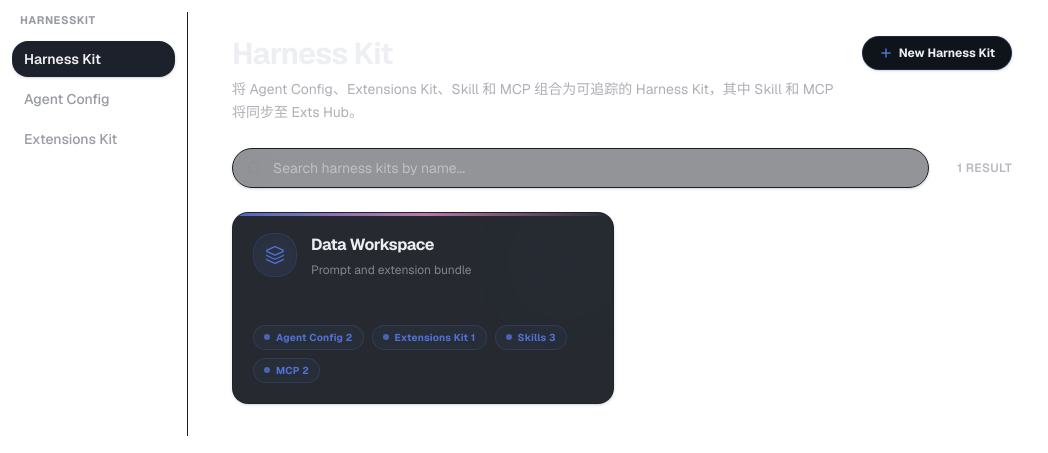
HarnessKitPage › opens a Kit details drawer with Skills and MCP assets
Step 1. Click the button "Extensions Kit" → (94,138), box [12, 120, 175, 156]
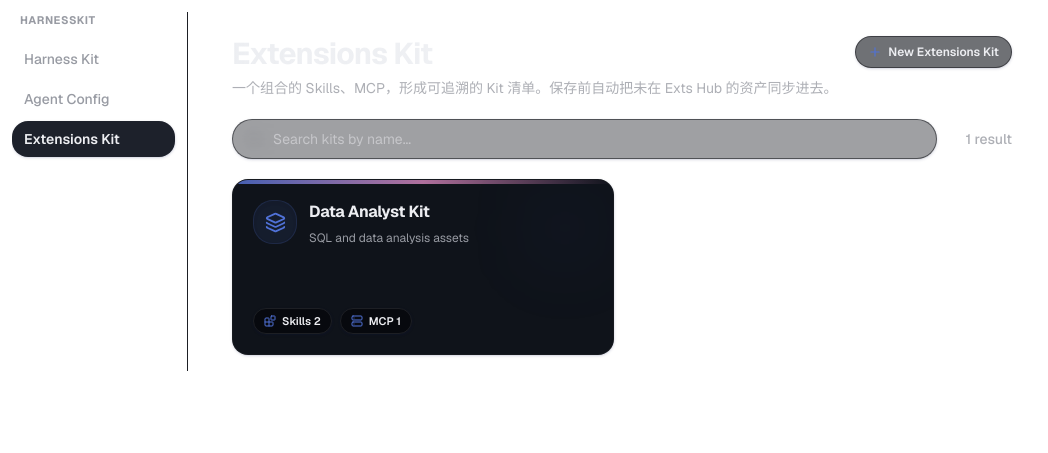
Step 2. Click the heading "Data Analyst Kit" → (369,212), box [309, 201, 430, 222]
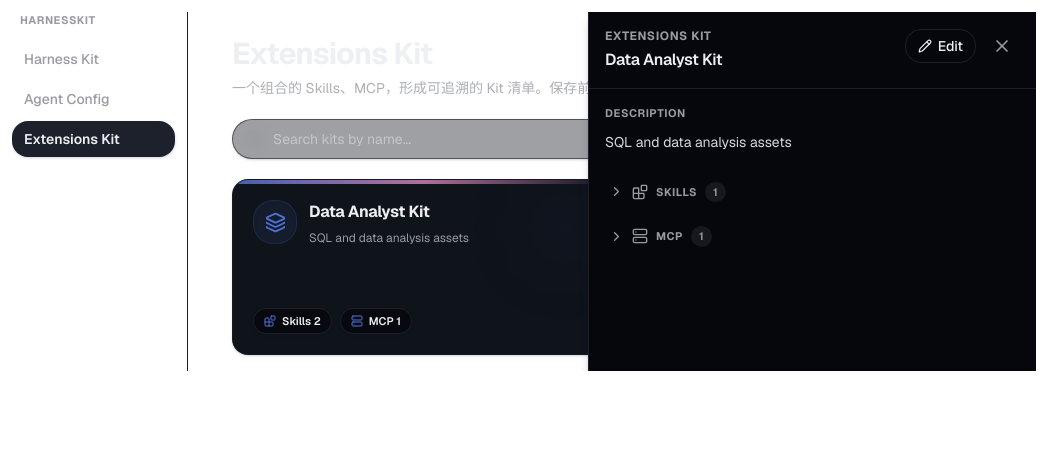
Expected: the text "frontend-design" is not shown
Expected: the text "Description" is shown, [605, 106, 686, 120]
Step 3. Click the button "Skills 1" → (677,192), box [605, 178, 1020, 206]
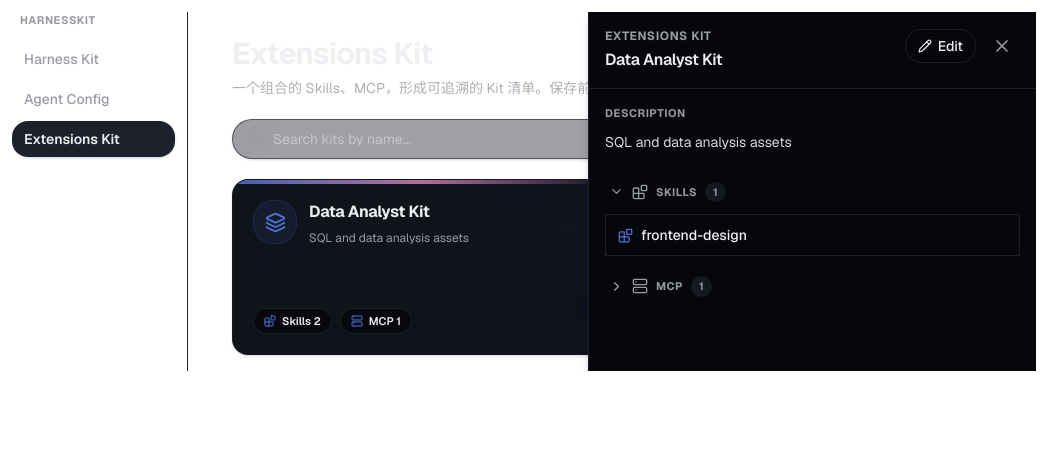
Step 4. Click the button "MCP 1" → (616,286), box [605, 272, 1020, 300]
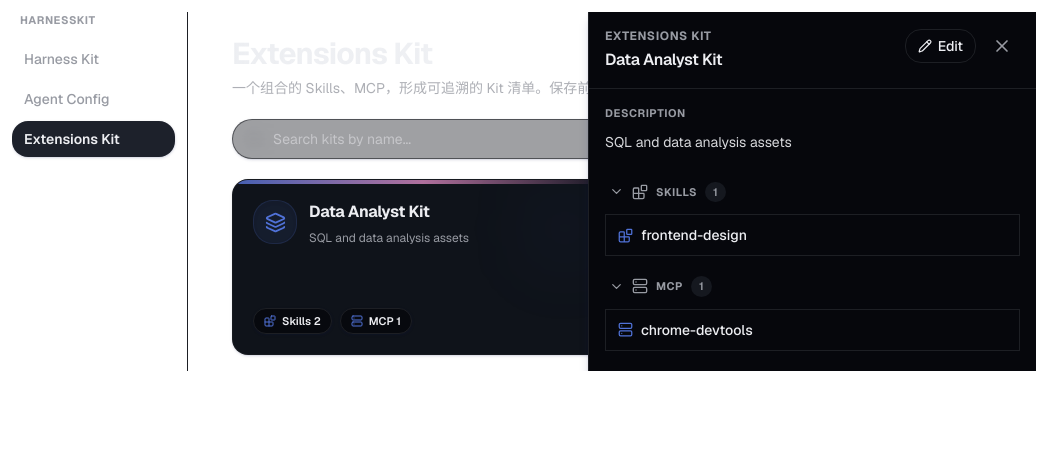
Expected: the text "frontend-design" is shown, [641, 225, 747, 245]
Expected: the text "chrome-devtools" is shown, [641, 320, 753, 340]
